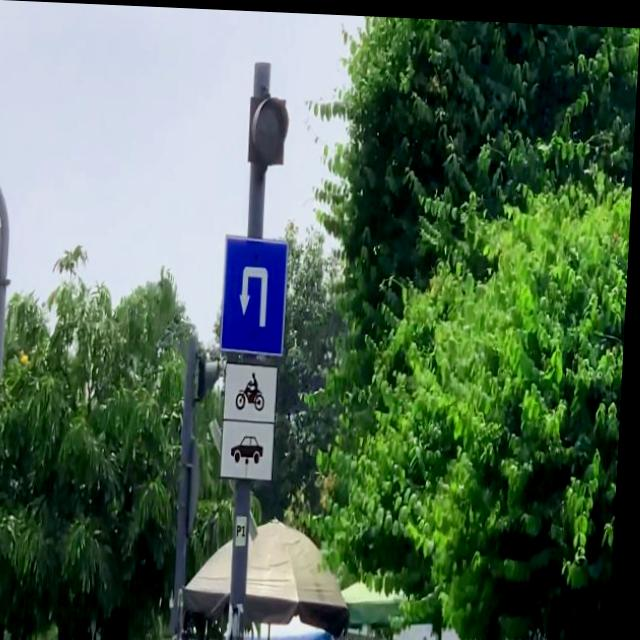Cho quay xe: (221, 229, 296, 354)
